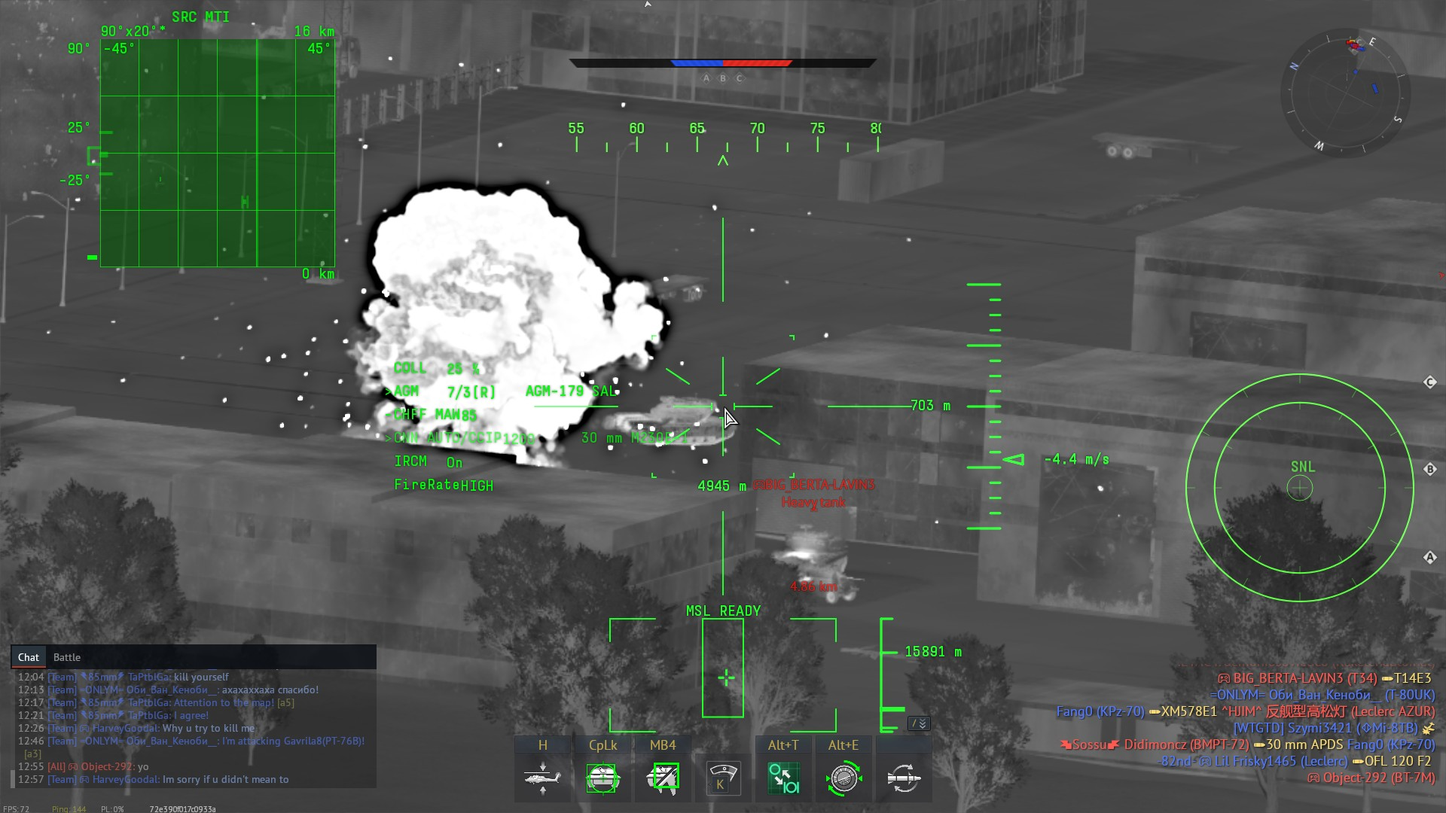abrams: (615, 395, 738, 446)
